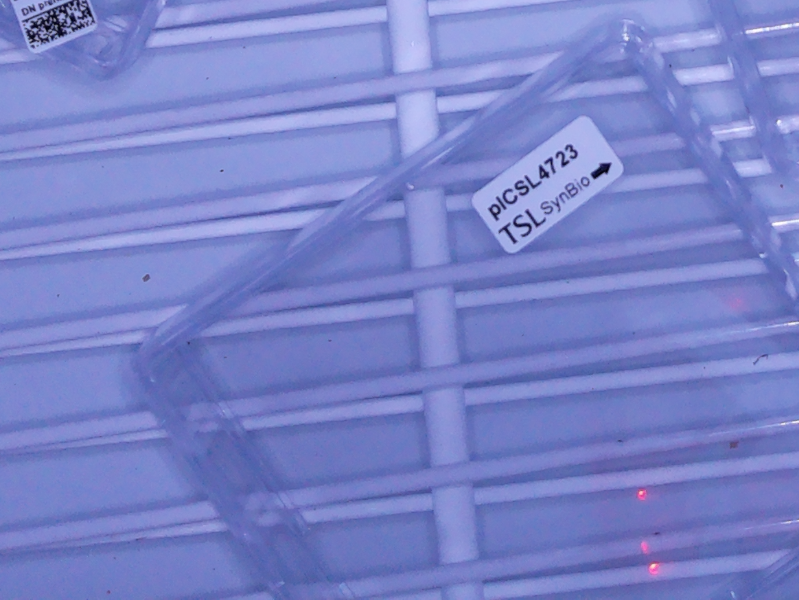plate: (126, 16, 799, 600), (707, 1, 799, 182), (1, 1, 166, 86)
